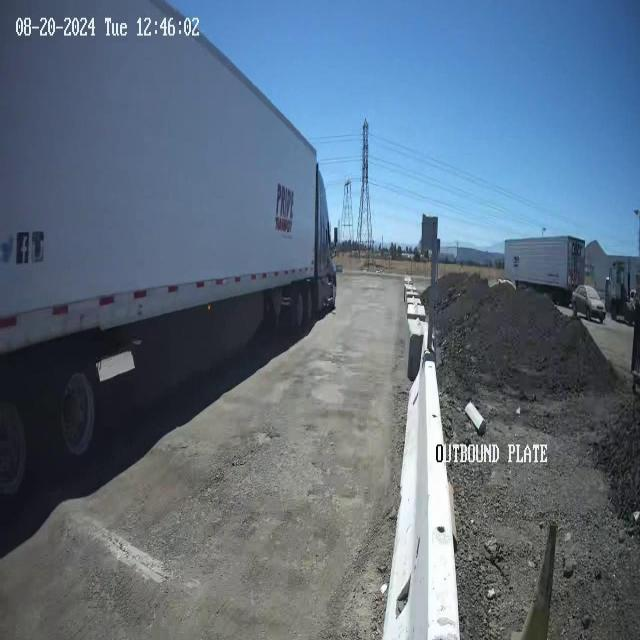TRUCK_IN: (1, 0, 337, 493)
